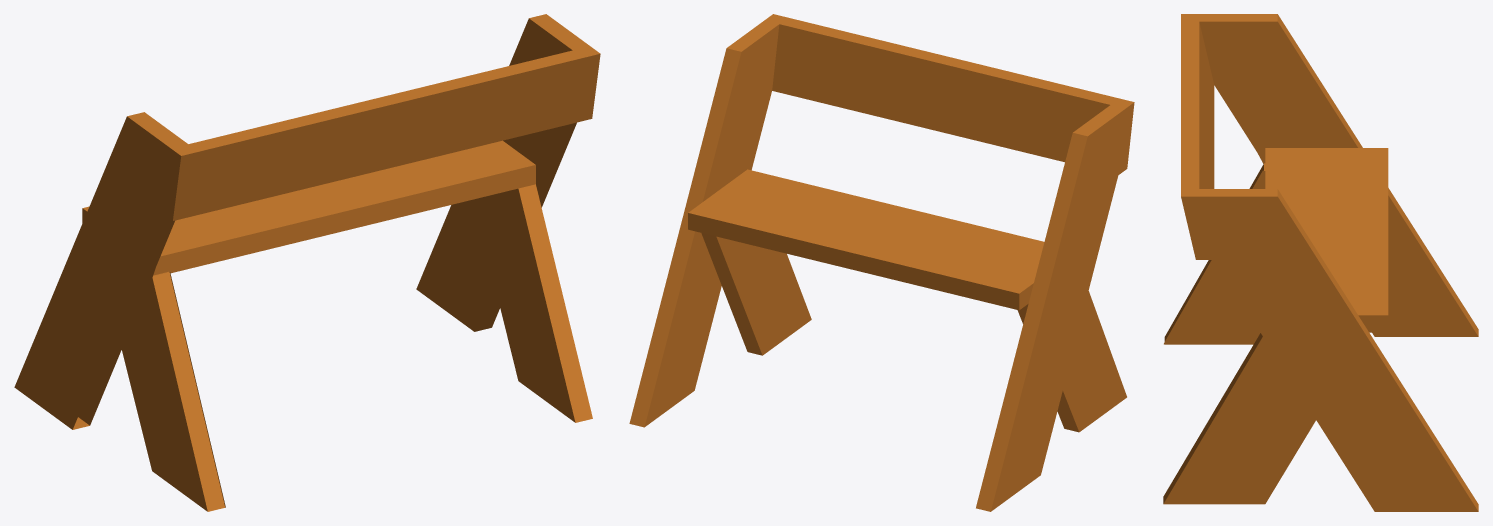
The picture shows the model from 3 angles, left to right: view 1: azimuth 30°, elevation 25°; view 2: azimuth 150°, elevation 25°; view 3: azimuth 270°, elevation 25°; orthographic projection. The views are drawn at different scales.
Visible parts, largest first — view 1: mesh1_mesh1-geometry; view 2: mesh1_mesh1-geometry; view 3: mesh1_mesh1-geometry.
Boxes of the visible parts, <box> form: mesh1_mesh1-geometry: <box>14,14,600,511</box>; mesh1_mesh1-geometry: <box>629,14,1134,511</box>; mesh1_mesh1-geometry: <box>1163,14,1478,511</box>.
Size of the model in its own units: 0.6768 by 0.5452 by 0.4941.
